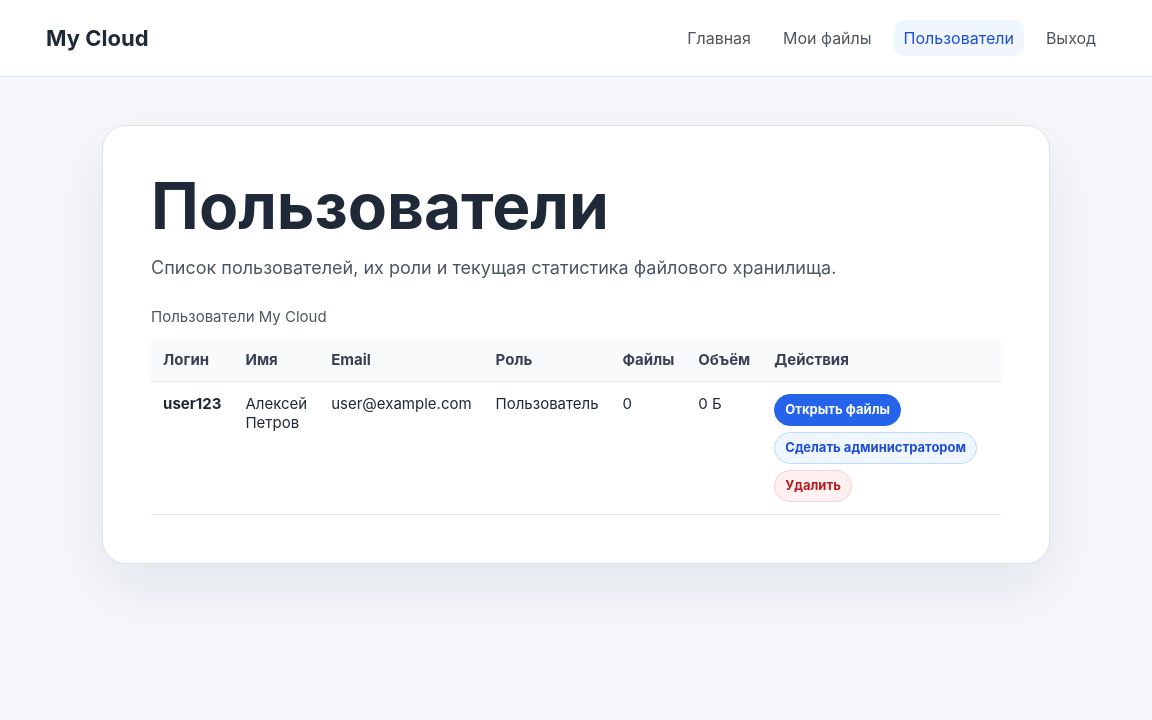
Test: App › deletes user after confirmation
Click the button "Удалить" at (813, 486), box top-left (774, 470), bottom-right (852, 502)
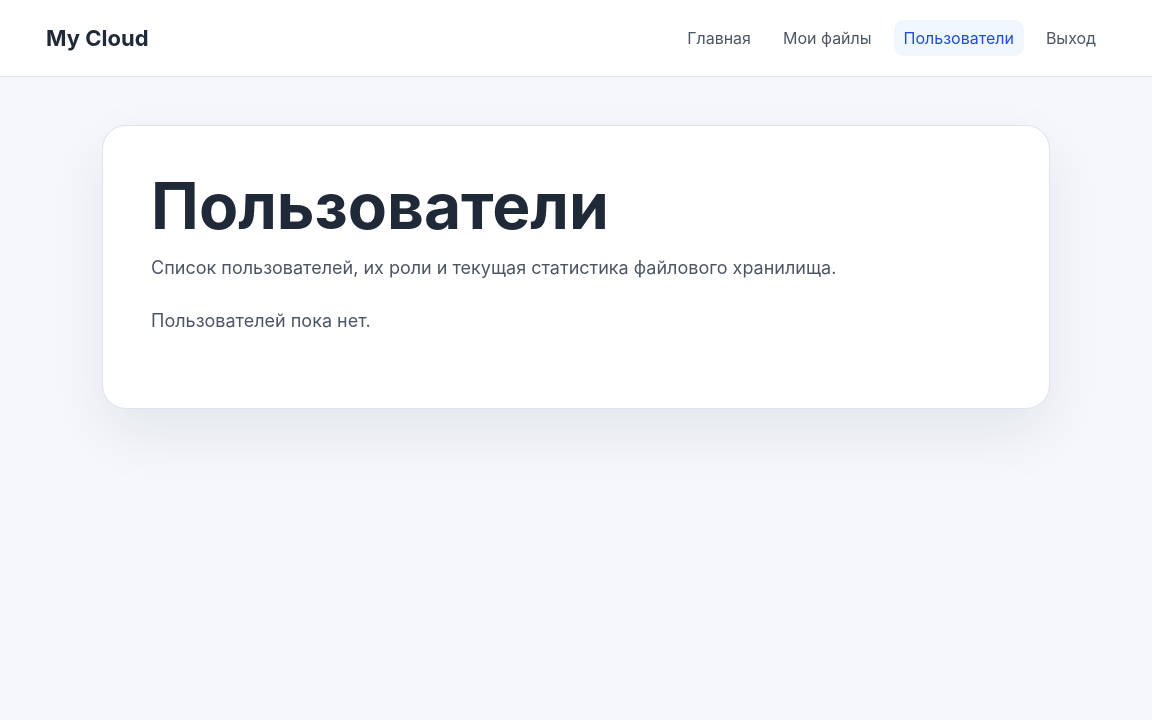
Check: the column heading "user123" is gone
